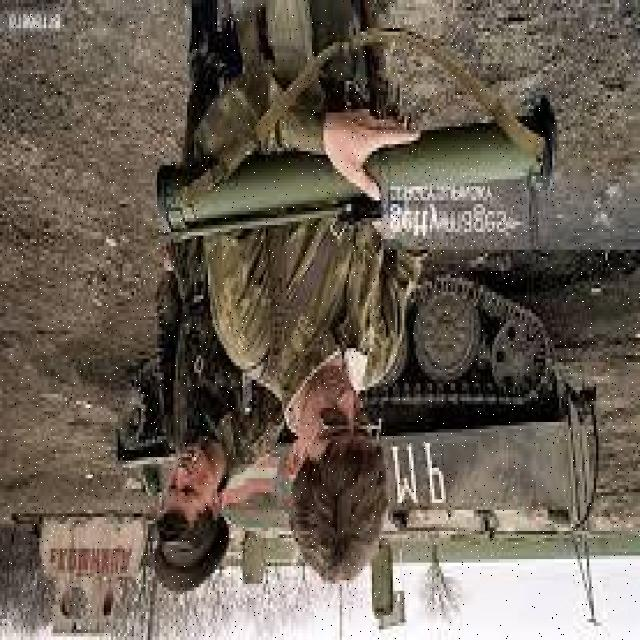bazooka: (150, 83, 565, 251)
